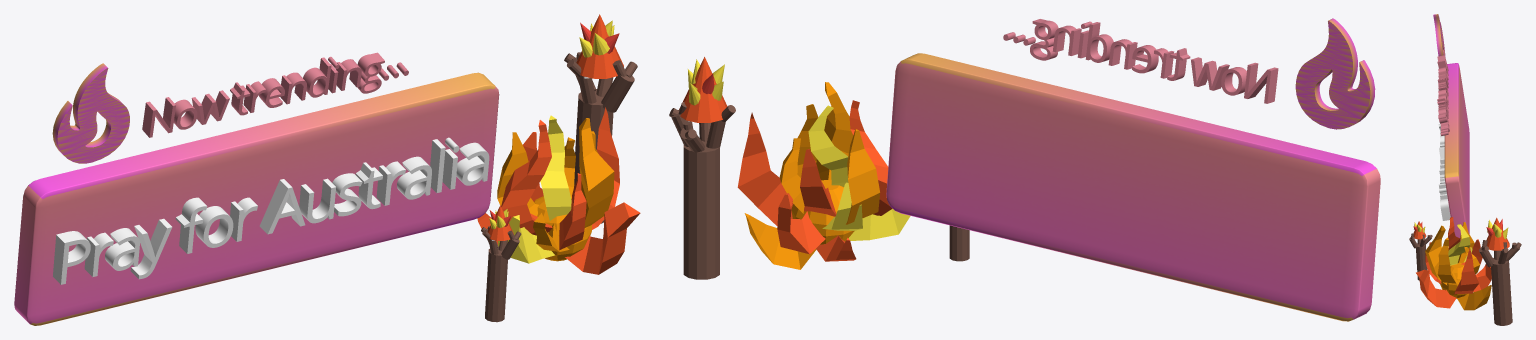
Rendered from social good.obj.
3 views of the same model, side by side, from view 1: azimuth 30°, elevation 25°; view 2: azimuth 150°, elevation 25°; view 3: azimuth 270°, elevation 25° (orthographic). The views are drawn at different scales.
Parts seen in each view (by area): view 1: 030_Rectagle_with_bevel, 031_Youtube_Trending_Icon, 087_mesh813435182, 085_mesh702594773, 075_mesh167038055, 076_mesh1602184737, 053_mesh680985136, 000_P, 007_A, 045_mesh1809084165, 003_y, 077_mesh1190332235 (+29 smaller); view 2: 030_Rectagle_with_bevel, 031_Youtube_Trending_Icon, 032_mesh680985136, 082_mesh217930424, 084_mesh1762201146, 083_mesh1501086520, 076_mesh1602184737, 089_mesh1746021426, 085_mesh702594773, 045_mesh1809084165, 080_mesh740134887, 075_mesh167038055 (+15 smaller); view 3: 030_Rectagle_with_bevel, 032_mesh680985136, 087_mesh813435182, 082_mesh217930424, 085_mesh702594773, 089_mesh1746021426, 078_mesh627047762, 076_mesh1602184737, 074_mesh1374064128, 045_mesh1809084165, 031_Youtube_Trending_Icon, 053_mesh680985136 (+14 smaller).
Boxes of the visible parts, x1,y1,x2,y2 form: 030_Rectagle_with_bevel: (14,72,499,325); 031_Youtube_Trending_Icon: (52,63,129,163); 087_mesh813435182: (565,202,640,274); 085_mesh702594773: (571,118,614,227); 075_mesh167038055: (501,120,552,235); 076_mesh1602184737: (540,115,571,220); 053_mesh680985136: (485,247,507,322); 000_P: (53,231,90,284); 007_A: (259,179,305,234); 045_mesh1809084165: (576,14,623,78); 003_y: (130,218,172,279); 077_mesh1190332235: (559,173,586,250); 030_Rectagle_with_bevel: (886,53,1380,321); 031_Youtube_Trending_Icon: (1295,18,1375,129); 032_mesh680985136: (683,141,719,279); 082_mesh217930424: (737,112,793,226); 084_mesh1762201146: (846,129,880,224); 083_mesh1501086520: (777,193,825,254); 076_mesh1602184737: (808,105,848,186); 089_mesh1746021426: (744,213,816,269); 085_mesh702594773: (816,82,853,180); 045_mesh1809084165: (679,57,727,122); 080_mesh740134887: (800,149,836,216); 075_mesh167038055: (849,100,892,215); 030_Rectagle_with_bevel: (1444,63,1469,240); 032_mesh680985136: (1491,258,1512,325); 087_mesh813435182: (1416,269,1456,308); 082_mesh217930424: (1454,248,1479,294); 085_mesh702594773: (1425,225,1447,285); 089_mesh1746021426: (1457,285,1491,310); 078_mesh627047762: (1437,237,1458,283); 076_mesh1602184737: (1448,224,1470,265); 074_mesh1374064128: (1440,263,1467,298); 045_mesh1809084165: (1486,217,1509,250); 031_Youtube_Trending_Icon: (1433,14,1445,56); 053_mesh680985136: (1416,243,1427,280).
Bounding box in the file's own units: 422 × 211 × 126.
Materials: 33 (2 with a texture image).
